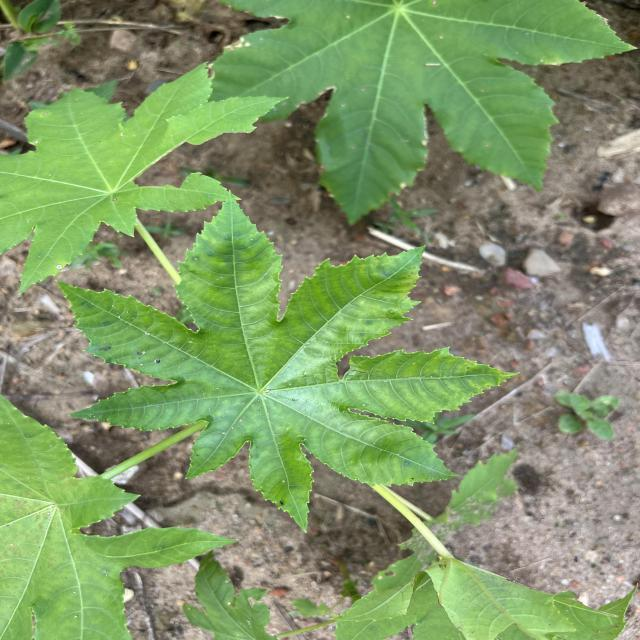Ricinus communis linn: (51, 184, 524, 539)
